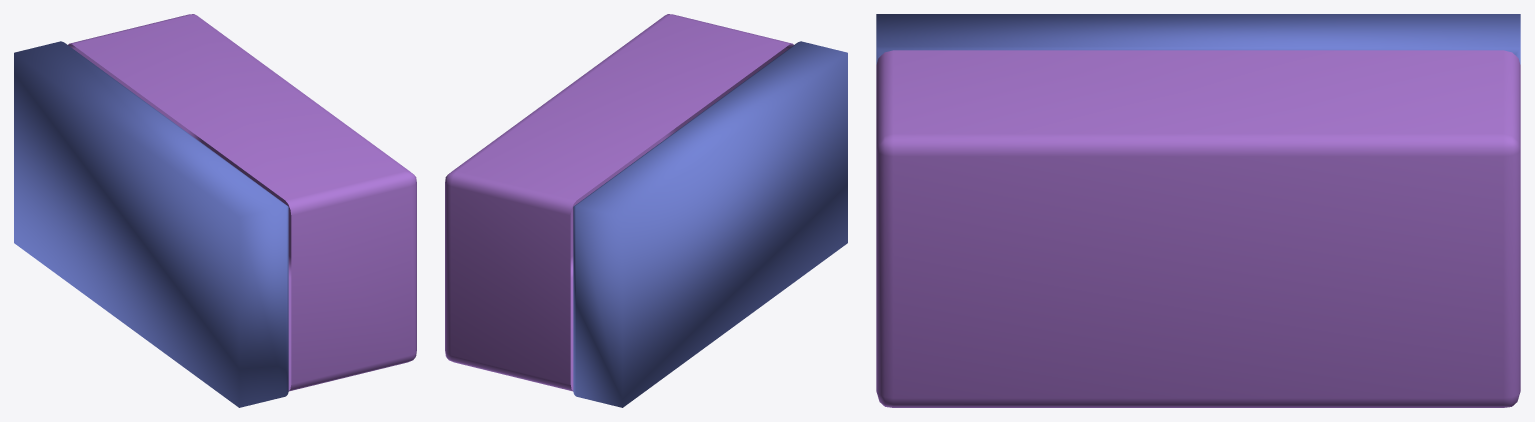
File: LucesEmergencia.fbx
3 views of the same model, side by side, from view 1: azimuth 30°, elevation 25°; view 2: azimuth 150°, elevation 25°; view 3: azimuth 270°, elevation 25° (orthographic). The views are drawn at different scales.
Parts seen in each view (by area): view 1: Caja, Cristal; view 2: Caja, Cristal; view 3: Cristal, Caja.
Boxes of the visible parts, x1,y1,x2,y2 form: Caja: [14, 41, 288, 407]; Cristal: [68, 14, 416, 391]; Caja: [573, 41, 847, 407]; Cristal: [445, 14, 793, 391]; Cristal: [876, 50, 1520, 407]; Caja: [876, 14, 1520, 64].
Bounding box in the file's own units: 0.07 × 0.07 × 0.15.
